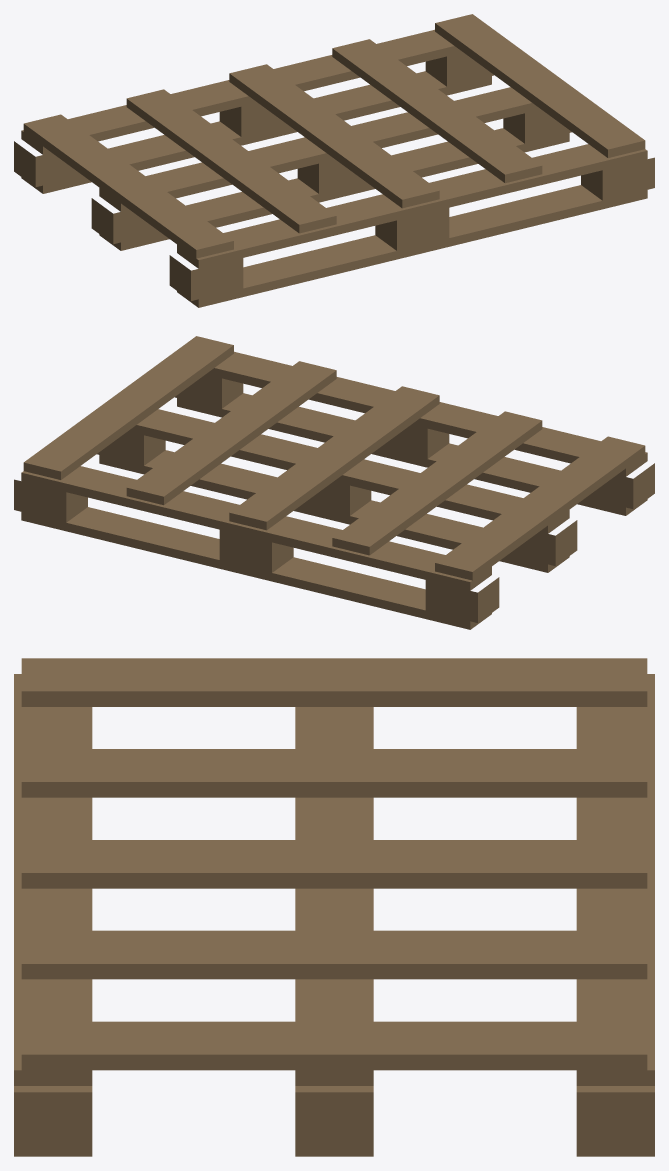
The model's file is SM_pallet.glb.
The picture shows the model from 3 angles, top to bottom: view 1: azimuth 30°, elevation 25°; view 2: azimuth 150°, elevation 25°; view 3: azimuth 270°, elevation 25°; orthographic projection. The views are drawn at different scales.
Parts seen in each view (by area): view 1: SM_pallet; view 2: SM_pallet; view 3: SM_pallet.
Boxes of the visible parts, bbox=[...] form: SM_pallet: bbox=[14, 14, 654, 307]; SM_pallet: bbox=[14, 336, 654, 629]; SM_pallet: bbox=[14, 658, 654, 1156].
Bounding box in the file's own units: 1.24 × 0.144 × 0.82.
